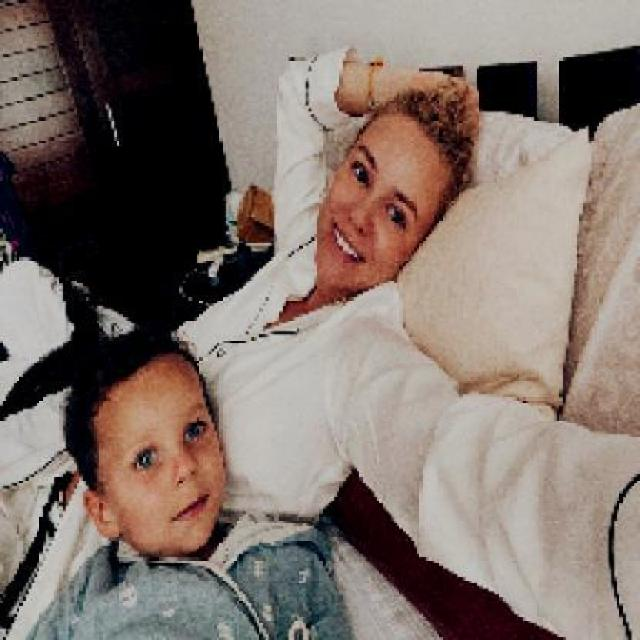child: (22, 326, 358, 637)
